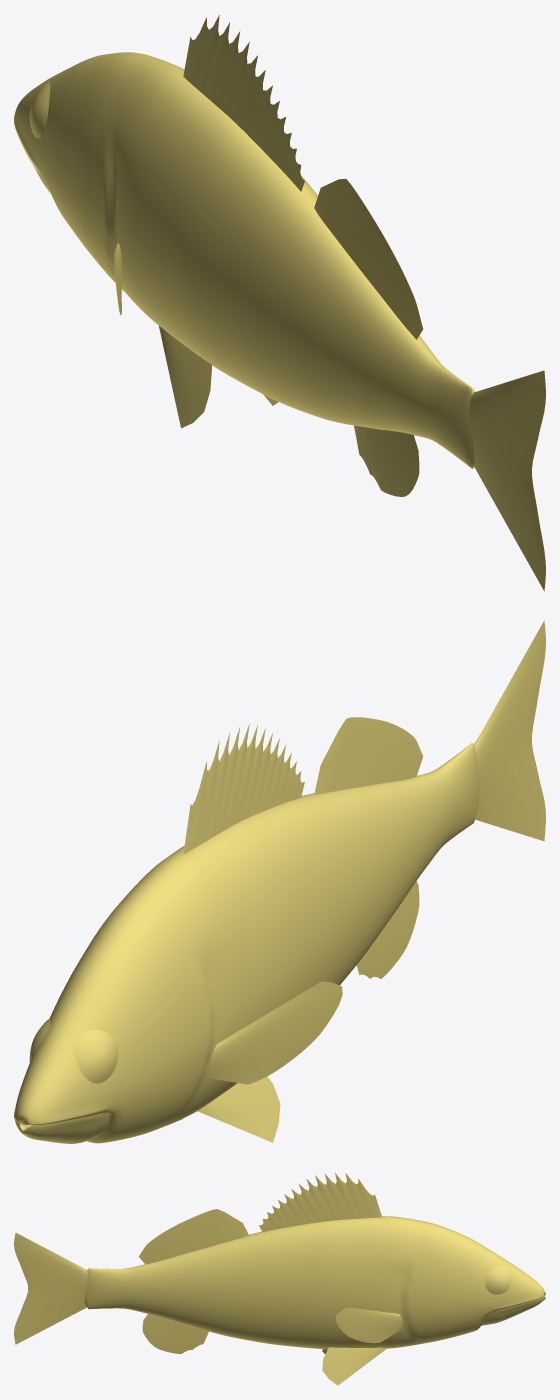
File: yellow_perch.glb
3 views of the same model, one above another, from view 1: azimuth 30°, elevation 25°; view 2: azimuth 150°, elevation 25°; view 3: azimuth 270°, elevation 25° (orthographic). The views are drawn at different scales.
Parts seen in each view (by area): view 1: yellow_perch; view 2: yellow_perch; view 3: yellow_perch.
Part boxes in pixels (left/top/right/bottom): yellow_perch: left=14, top=15, right=545, bottom=591; yellow_perch: left=14, top=620, right=545, bottom=1143; yellow_perch: left=14, top=1173, right=545, bottom=1385.
Bounding box in the file's own units: 0.0741 × 0.124 × 0.2959.
